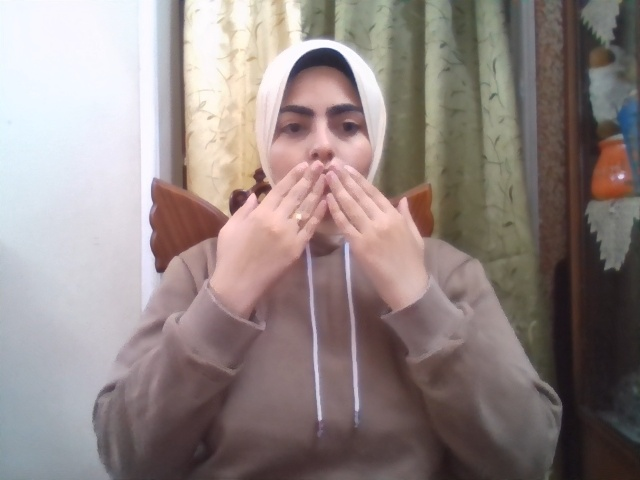thanks: (217, 160, 426, 300)
